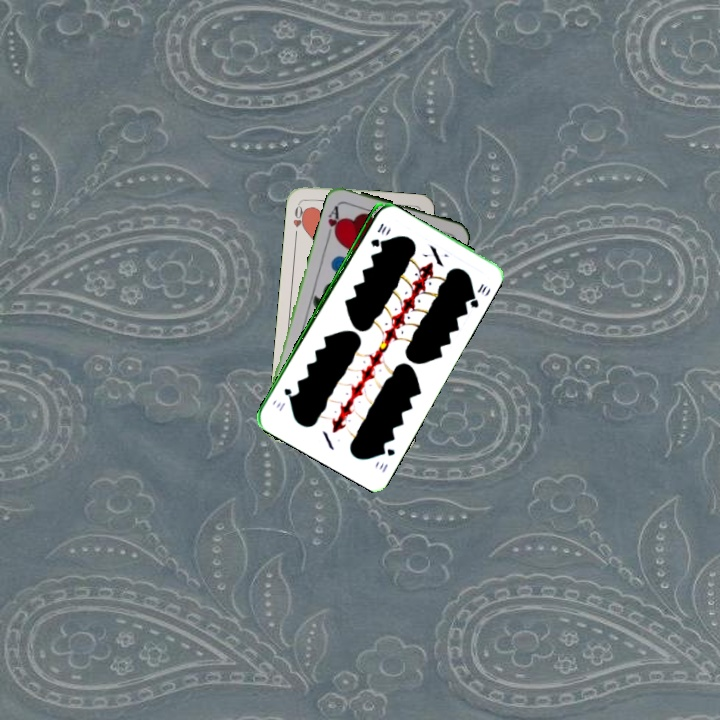G10: (376, 443, 398, 475), (367, 219, 386, 249)
HA: (323, 202, 344, 241)
HO: (289, 199, 308, 239)
